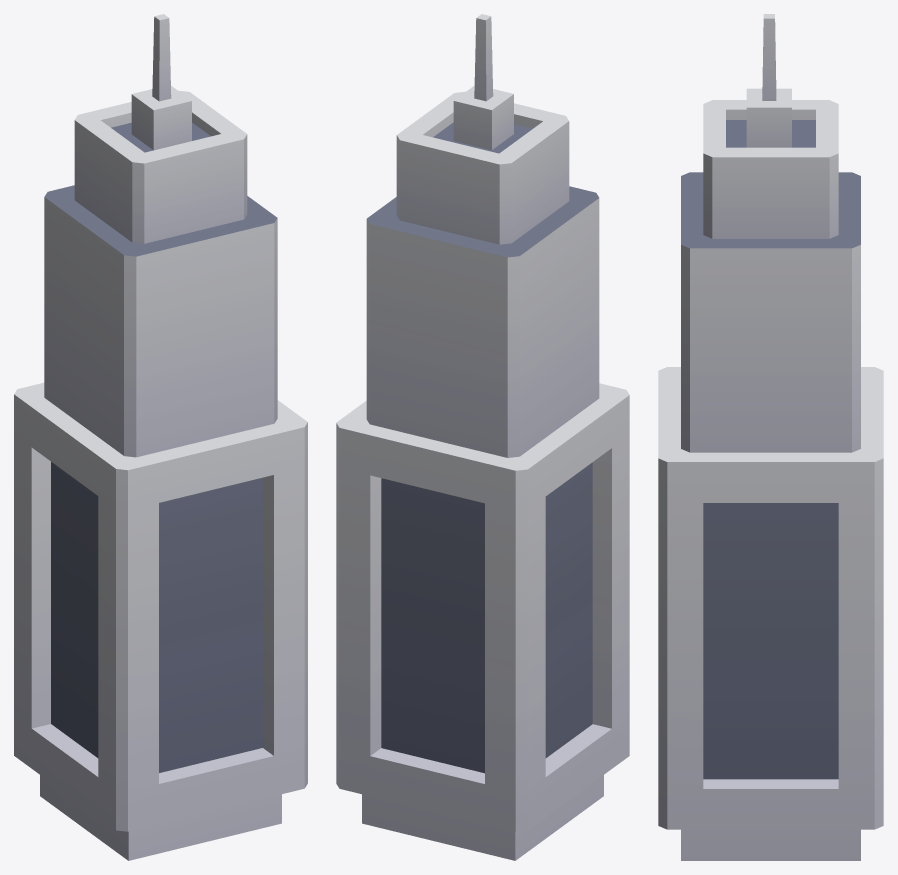
The model's file is commercial__low-detail-building-m.glb.
3 views of the same model, side by side, from view 1: azimuth 30°, elevation 25°; view 2: azimuth 150°, elevation 25°; view 3: azimuth 270°, elevation 25° (orthographic).
Parts seen in each view (by area): view 1: low-detail-building-m; view 2: low-detail-building-m; view 3: low-detail-building-m.
Part boxes in pixels (<box>): low-detail-building-m: <box>14,14,307,860</box>; low-detail-building-m: <box>336,14,629,860</box>; low-detail-building-m: <box>658,14,883,860</box>.
Bounding box in the file's own units: 0.5001 × 1.98 × 0.5001.
Materials: 1 (1 with a texture image).
